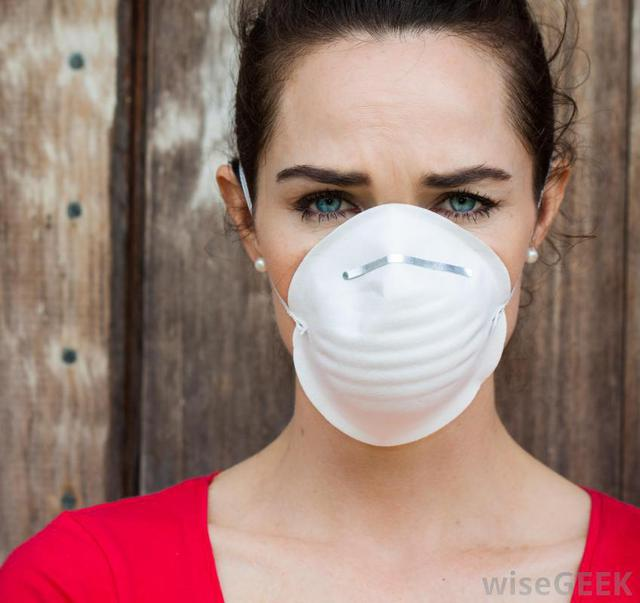mask: (308, 245, 512, 422)
